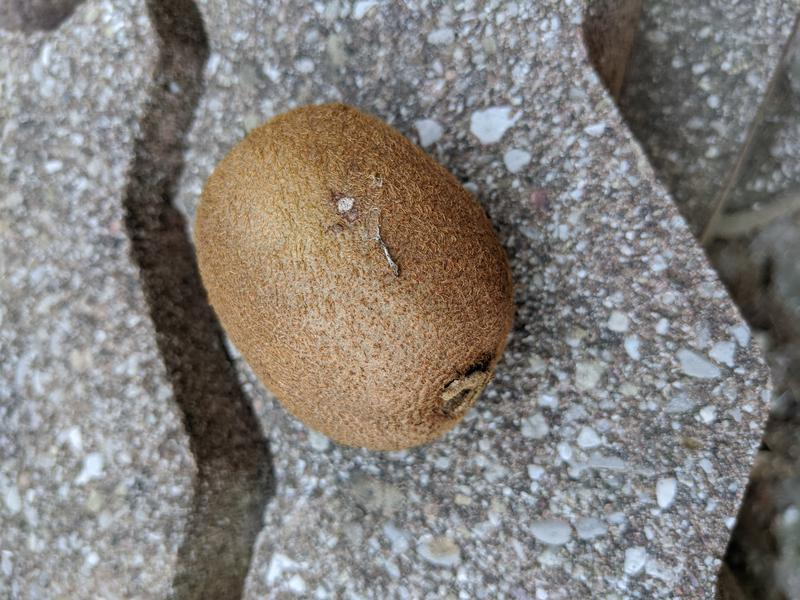kiwi: (194, 102, 516, 452)
